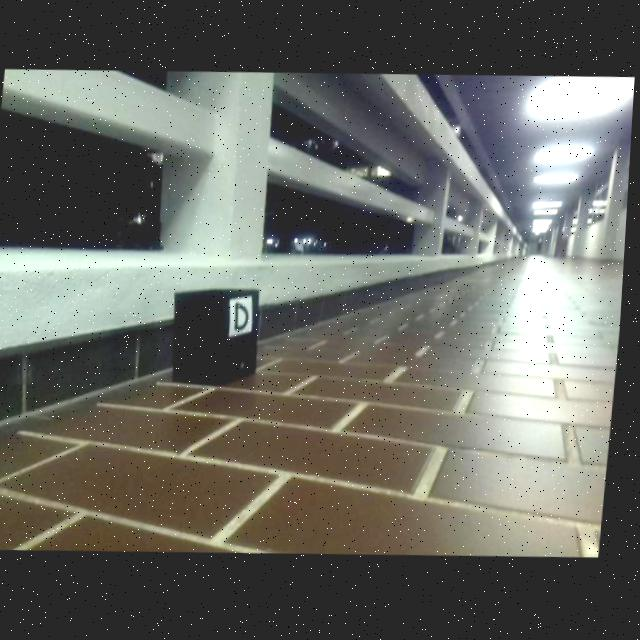D: (237, 301, 253, 332)
